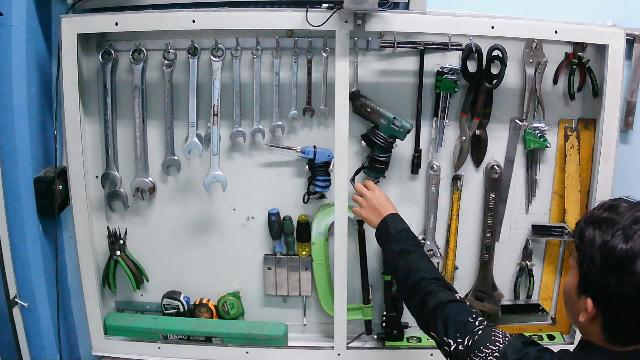gun_lem: (349, 87, 414, 201)
